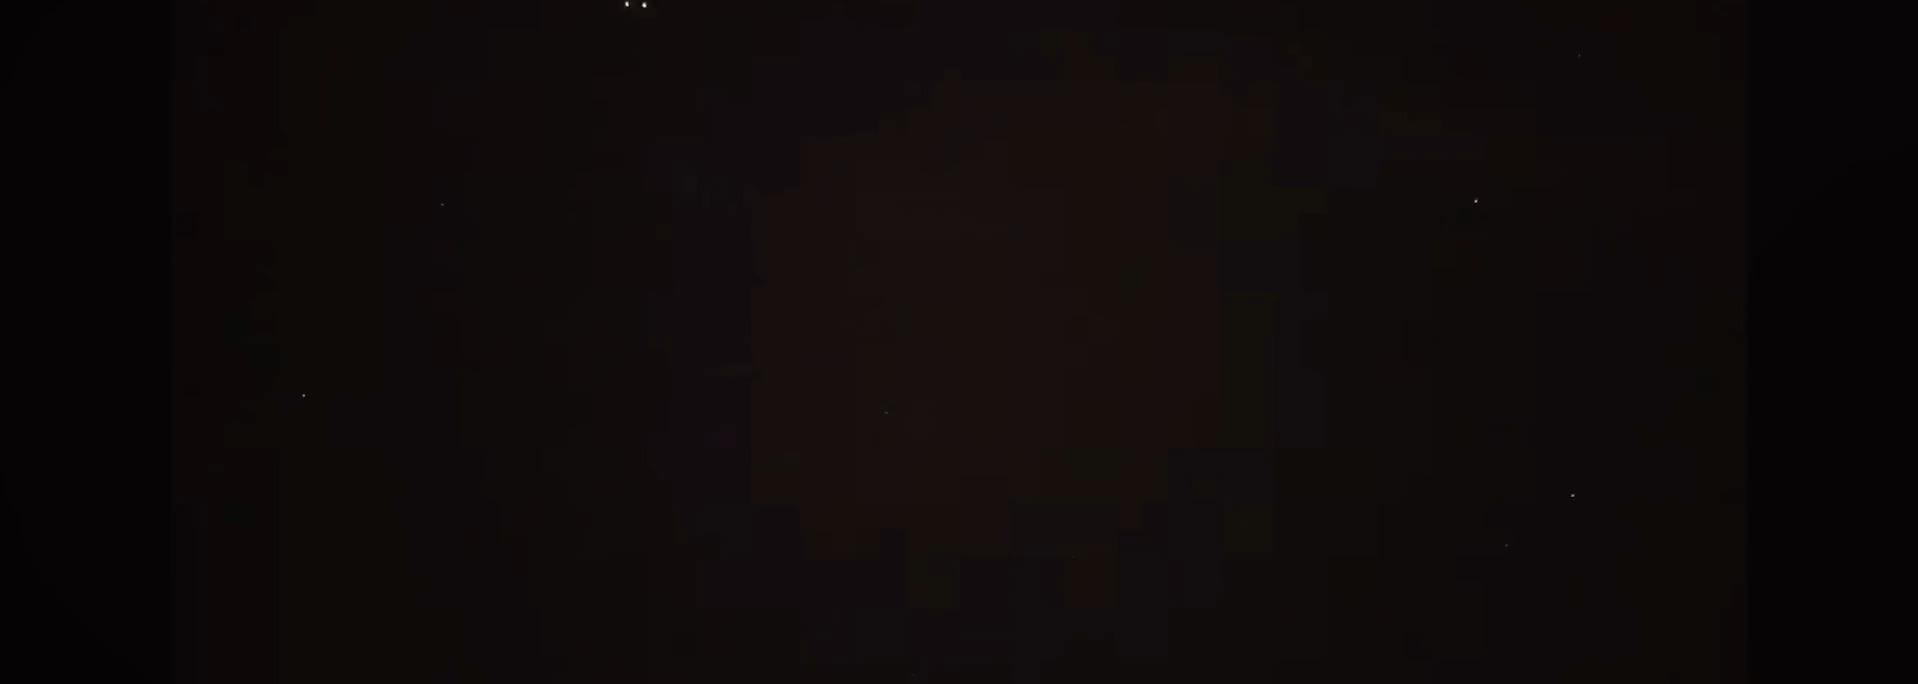Plane: (591, 0, 683, 20)
